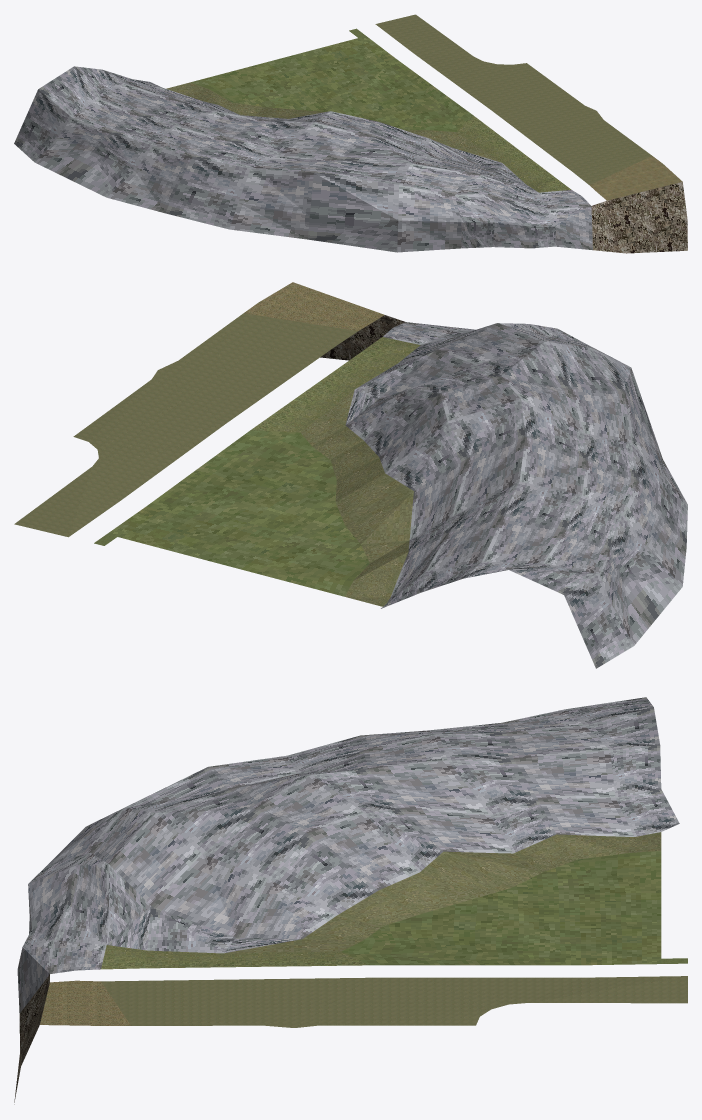
Rendered from lodecoast05.obj.
3 renders of one model, top to bottom at view 1: azimuth 30°, elevation 25°; view 2: azimuth 150°, elevation 25°; view 3: azimuth 270°, elevation 25°, orthographic. The views are drawn at different scales.
Visible parts, largest first — view 1: lodEcoast05; view 2: lodEcoast05; view 3: lodEcoast05.
Part boxes in pixels (x1=…): lodEcoast05: x1=14, y1=14, x2=687, y2=253; lodEcoast05: x1=14, y1=282, x2=687, y2=668; lodEcoast05: x1=14, y1=697, x2=687, y2=1104.
Bounding box in the file's own units: 273 × 64.35 × 254.
Materials: 8 (8 with a texture image).
